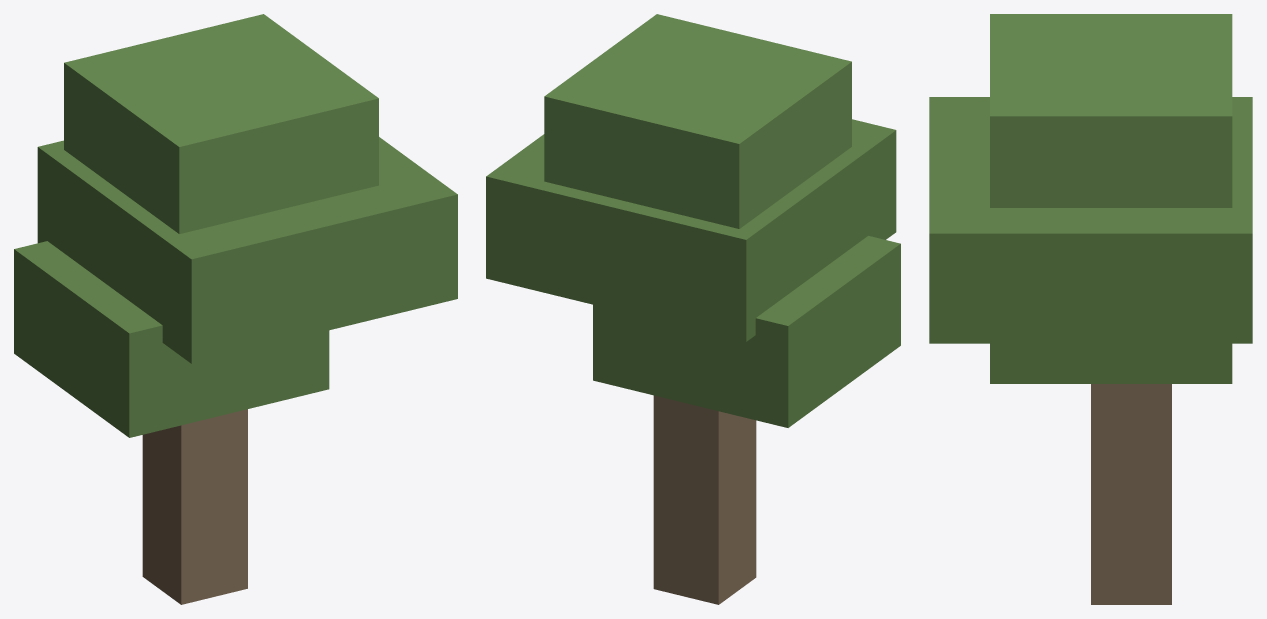
The model's file is roble_grande_02.glb.
The picture shows the model from 3 angles, left to right: view 1: azimuth 30°, elevation 25°; view 2: azimuth 150°, elevation 25°; view 3: azimuth 270°, elevation 25°; orthographic projection. The views are drawn at different scales.
Visible parts, largest first — view 1: roble_grande_02; view 2: roble_grande_02; view 3: roble_grande_02.
Part boxes in pixels (<box>): roble_grande_02: <box>14,14,457,604</box>; roble_grande_02: <box>486,14,900,604</box>; roble_grande_02: <box>929,14,1252,604</box>.
Size of the model in its own units: 1.8 by 2.9 by 1.6.
